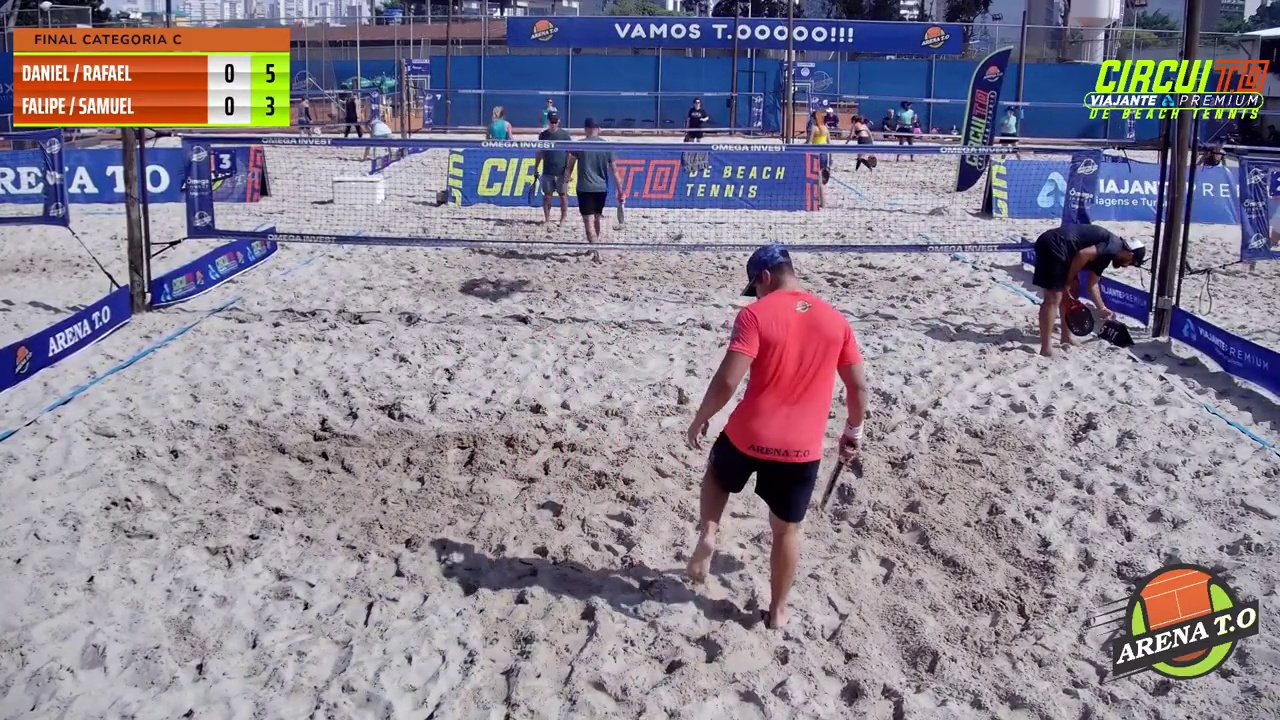court_line: (638, 0, 804, 446)
